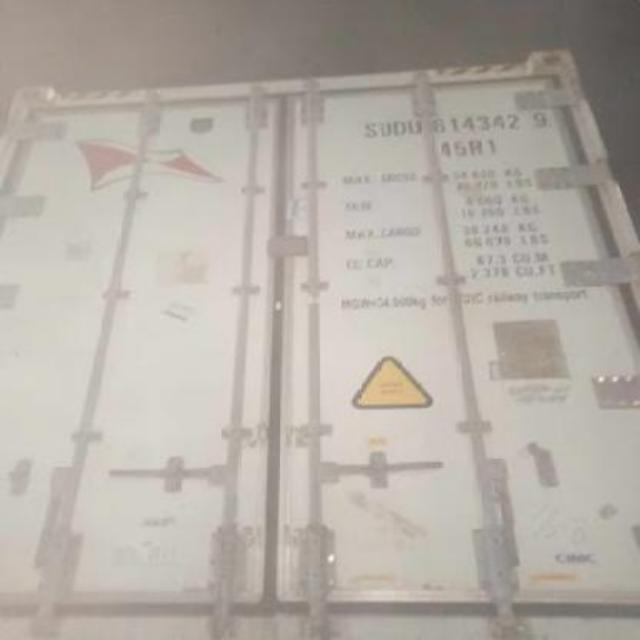1: (450, 118, 458, 132)
2: (504, 110, 520, 132)
3: (474, 114, 492, 132)
4: (492, 113, 506, 131), (462, 118, 474, 130)
8: (432, 120, 446, 132)
9: (530, 111, 548, 127)
D: (392, 120, 406, 136)
S: (362, 122, 378, 138)
U: (378, 120, 392, 136), (406, 122, 422, 134)
